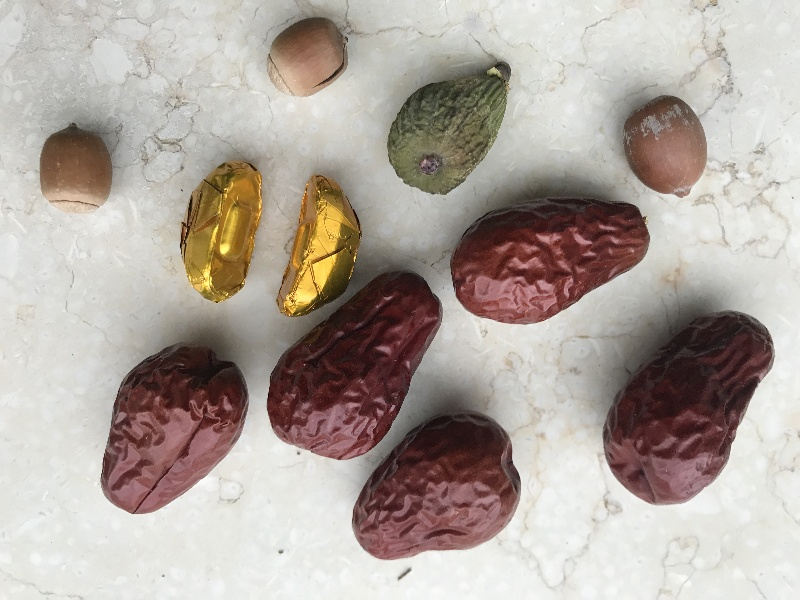date: (603, 311, 776, 507), (267, 269, 443, 460), (99, 340, 252, 517), (350, 409, 523, 562), (449, 197, 652, 327)
fig: (390, 61, 513, 196)
hazelnut: (623, 97, 706, 198), (266, 17, 352, 98), (40, 124, 114, 214)
